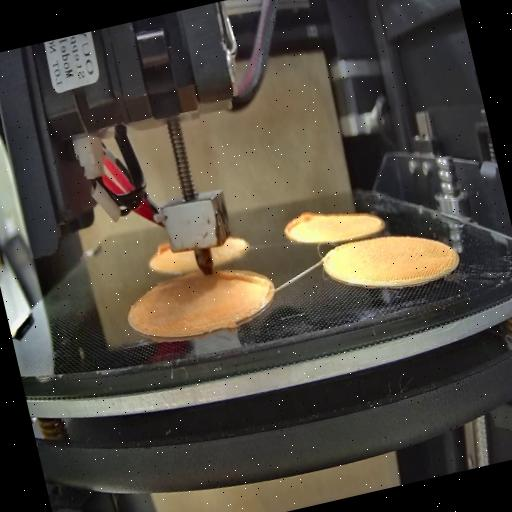over_extrusion: (214, 258, 272, 310), (279, 206, 322, 247), (156, 242, 172, 258)
